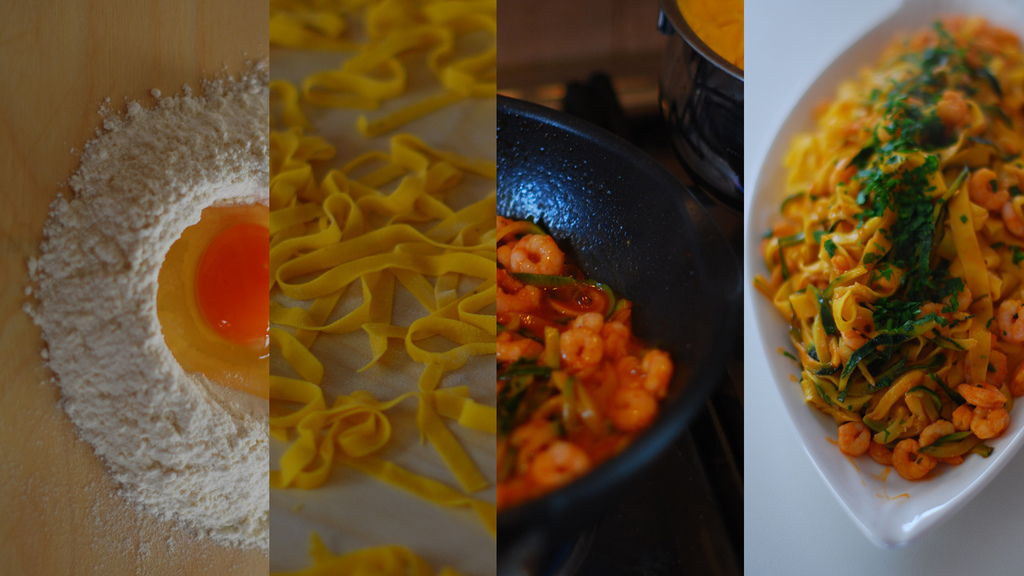pasta: (272, 3, 496, 575), (763, 28, 1020, 525), (493, 243, 688, 495)
